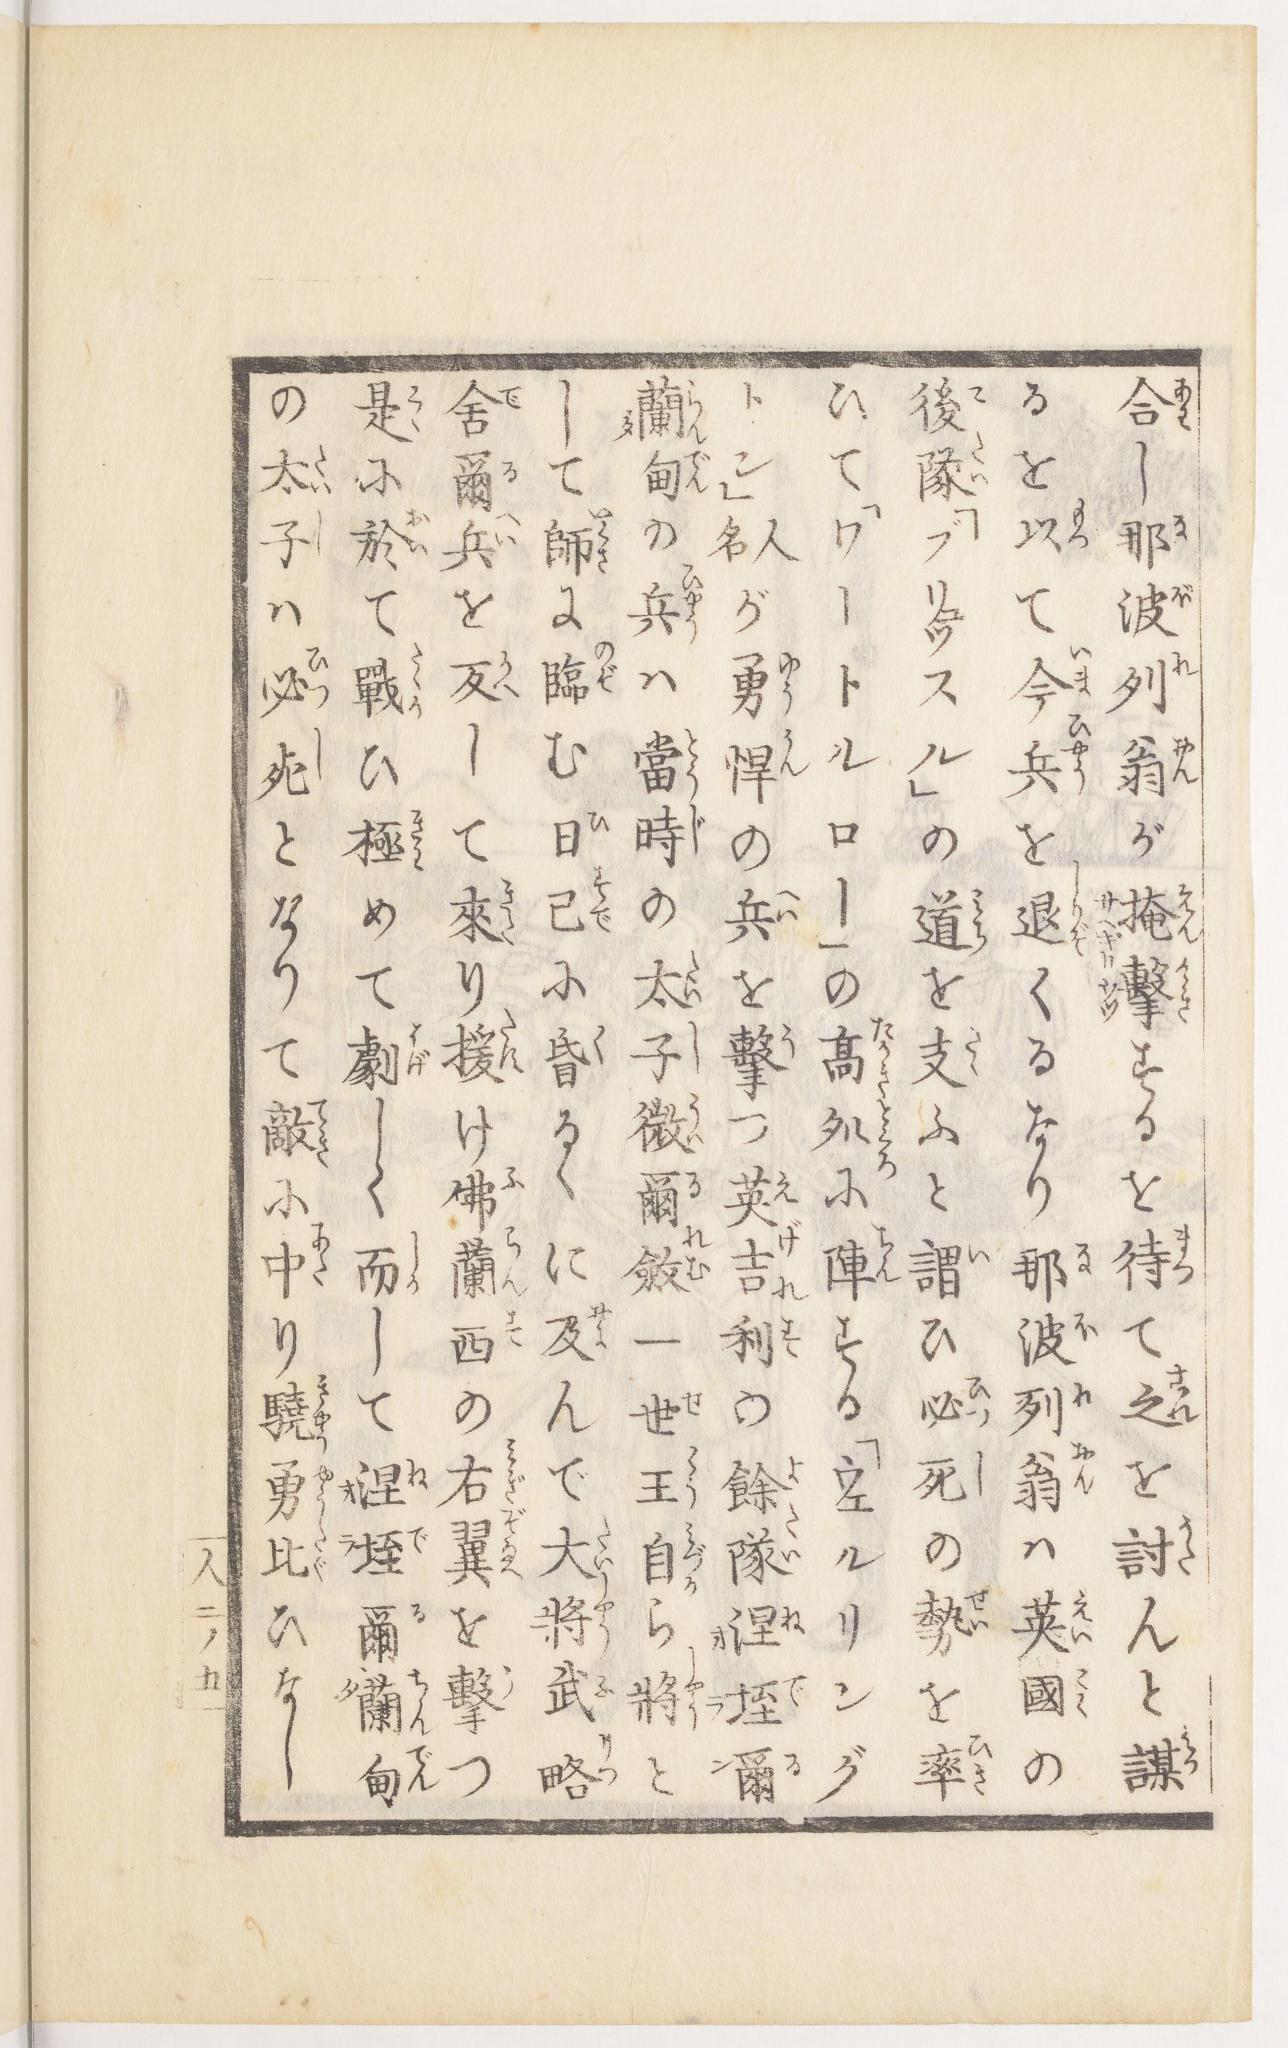MainZone-Character: (1008, 714, 1101, 798), (727, 1215, 809, 1306), (724, 724, 809, 810), (905, 1585, 996, 1664), (444, 1008, 530, 1089), (1116, 1720, 1205, 1799), (1011, 1440, 1101, 1517), (352, 1665, 442, 1741), (1018, 865, 1091, 959), (911, 1368, 1005, 1441), (902, 1229, 997, 1300), (1111, 1221, 1200, 1297), (1107, 643, 1197, 717), (911, 1729, 1002, 1803), (442, 1300, 534, 1373), (331, 1021, 433, 1086), (816, 1224, 901, 1303), (1012, 1583, 1098, 1661), (726, 1020, 803, 1106), (1110, 1511, 1205, 1581), (720, 1453, 809, 1527), (1005, 1236, 1101, 1304), (441, 1224, 533, 1296), (818, 1018, 901, 1097), (1119, 720, 1203, 797), (252, 1377, 337, 1454), (536, 1727, 620, 1805), (353, 644, 435, 723), (447, 1505, 525, 1586), (257, 643, 341, 718), (534, 1588, 628, 1656), (349, 1230, 438, 1302), (1126, 948, 1202, 1031), (623, 1226, 715, 1294), (534, 640, 623, 709), (632, 564, 709, 644), (540, 502, 623, 576), (626, 1088, 711, 1161), (720, 1306, 813, 1371), (631, 1653, 708, 1732), (631, 807, 717, 877), (629, 730, 708, 806), (261, 1221, 341, 1296), (252, 1097, 335, 1166), (540, 867, 616, 942), (1123, 1361, 1200, 1435), (444, 1661, 521, 1735), (908, 887, 988, 959), (637, 375, 717, 447), (347, 809, 429, 879), (353, 1598, 439, 1664), (1016, 644, 1095, 715), (442, 512, 530, 576), (1120, 879, 1202, 947), (542, 1017, 608, 1100), (1111, 571, 1196, 637), (724, 886, 809, 951), (349, 506, 433, 571), (439, 1443, 528, 1503), (1012, 1310, 1097, 1374), (447, 874, 521, 947), (726, 647, 803, 717), (916, 1023, 991, 1092), (919, 433, 994, 503), (913, 1445, 991, 1512), (1116, 370, 1199, 432), (729, 1594, 809, 1658), (448, 380, 530, 442), (341, 1459, 439, 1511), (261, 1454, 332, 1526), (1110, 509, 1197, 567), (638, 1021, 712, 1089), (1016, 1664, 1097, 1726), (635, 1444, 703, 1517), (640, 1524, 708, 1595), (721, 1165, 803, 1224), (815, 1100, 898, 1158), (733, 1742, 807, 1806), (362, 1744, 436, 1808), (913, 375, 990, 436), (255, 506, 326, 571), (441, 1165, 521, 1223), (447, 646, 522, 706), (359, 1523, 436, 1582), (635, 948, 703, 1014), (255, 730, 325, 794), (721, 1527, 804, 1581), (545, 1662, 619, 1722), (727, 1670, 807, 1724), (364, 380, 433, 442), (640, 447, 718, 502), (1012, 1382, 1095, 1434), (450, 447, 516, 509), (821, 1161, 898, 1214), (548, 807, 619, 865), (634, 1166, 706, 1223), (264, 1527, 334, 1585), (260, 445, 332, 500), (546, 1521, 616, 1578), (635, 1389, 709, 1435)
MainZone-Ruby: (776, 1215, 810, 1304), (494, 1508, 530, 1583), (677, 564, 708, 647), (1065, 873, 1092, 968), (868, 1015, 898, 1098), (1067, 1440, 1105, 1503), (1064, 714, 1094, 795), (773, 720, 812, 782), (1163, 1217, 1197, 1285), (867, 1220, 901, 1288), (966, 1730, 1000, 1799), (1160, 1361, 1196, 1425), (1067, 1585, 1100, 1653), (496, 1009, 528, 1077), (680, 1523, 709, 1597), (404, 1664, 433, 1738), (401, 803, 430, 877), (1172, 1511, 1202, 1583), (592, 1579, 620, 1655), (398, 1232, 430, 1296), (306, 643, 335, 712), (967, 1371, 1000, 1434), (1169, 730, 1200, 794), (502, 1223, 528, 1297), (966, 884, 994, 954), (588, 868, 616, 938), (307, 1095, 335, 1165), (499, 1434, 527, 1503), (680, 729, 706, 801), (312, 1377, 338, 1450), (773, 649, 803, 712), (307, 1221, 337, 1285), (1065, 644, 1098, 700), (680, 1229, 712, 1285), (684, 375, 709, 447), (494, 874, 519, 945), (404, 505, 436, 559), (1175, 951, 1197, 1031), (307, 1463, 337, 1523), (592, 502, 616, 574), (407, 1742, 439, 1794), (594, 638, 623, 695), (1169, 371, 1196, 433), (783, 1456, 806, 1530), (405, 643, 427, 717), (1174, 879, 1199, 944), (1068, 1667, 1098, 1720), (597, 1730, 622, 1793), (683, 1443, 703, 1515), (491, 647, 518, 702), (969, 1586, 999, 1635), (778, 1312, 807, 1361), (874, 1101, 899, 1158), (407, 1021, 430, 1080), (684, 1091, 706, 1153), (491, 503, 522, 548), (1067, 1307, 1103, 1346), (680, 945, 702, 1006), (686, 447, 712, 497), (1177, 1726, 1203, 1776), (310, 447, 337, 497), (307, 1527, 332, 1581), (963, 1023, 985, 1082), (686, 1653, 703, 1727), (775, 882, 801, 931), (680, 1021, 706, 1070), (781, 1601, 810, 1643), (306, 730, 329, 782), (1169, 644, 1200, 683), (500, 1312, 530, 1352), (1162, 574, 1196, 608), (783, 1744, 807, 1793), (782, 1671, 812, 1710), (772, 1165, 800, 1205), (591, 1521, 613, 1572), (972, 1445, 993, 1499), (962, 1233, 993, 1269), (310, 509, 331, 562), (1074, 1236, 1100, 1279), (1071, 1379, 1101, 1414), (592, 1018, 613, 1069), (778, 1018, 800, 1064), (496, 1662, 518, 1708), (402, 1456, 432, 1490), (410, 381, 429, 432), (585, 806, 616, 837), (1165, 509, 1193, 543), (686, 806, 705, 855), (502, 375, 527, 413), (500, 1164, 530, 1195), (972, 441, 990, 491), (402, 1601, 432, 1628), (402, 1521, 429, 1551), (781, 1540, 806, 1572), (499, 451, 519, 487), (874, 1158, 898, 1187), (970, 374, 990, 408), (686, 1166, 702, 1207), (686, 1391, 706, 1419), (594, 1668, 610, 1699)
